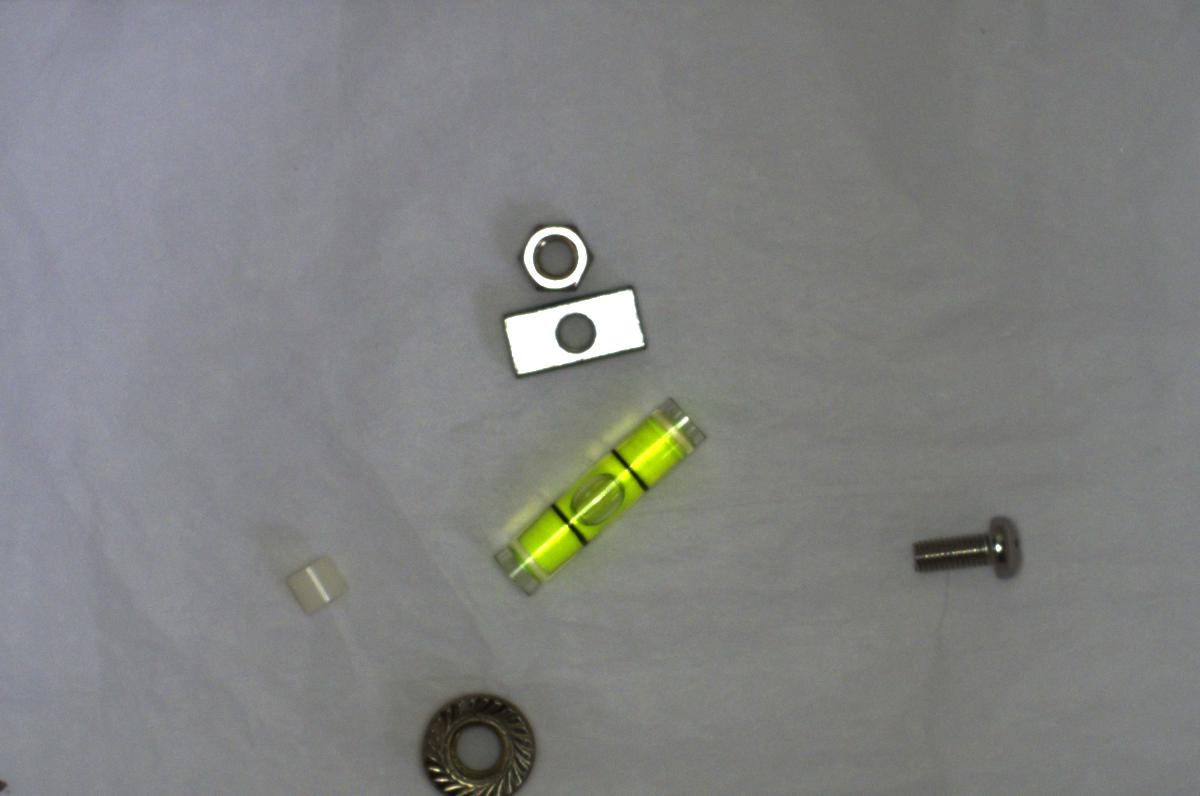Flange nut: (400, 678, 552, 795)
Hexagon nut: (517, 203, 594, 299)
Horizontal bubble: (473, 383, 706, 599)
Plastic cushion pillar: (281, 548, 348, 615)
Rectangular nut: (498, 279, 647, 375)
Round head screw: (902, 508, 1028, 588)
